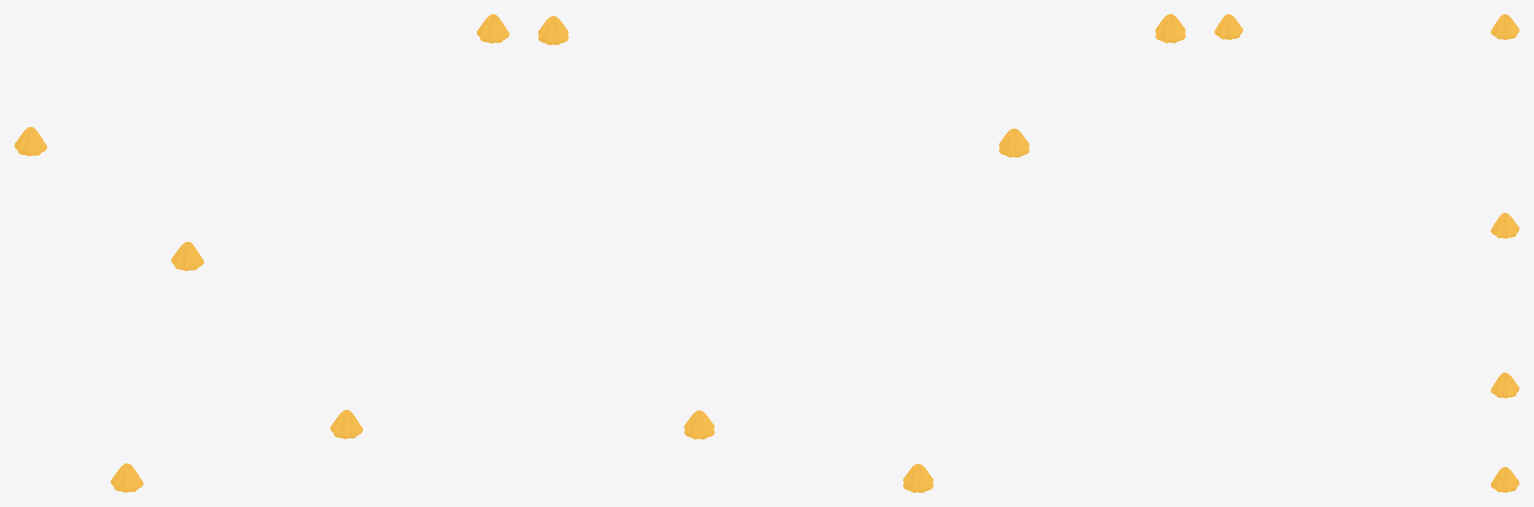
The model's file is fire.glb.
3 views of the same model, side by side, from view 1: azimuth 30°, elevation 25°; view 2: azimuth 150°, elevation 25°; view 3: azimuth 270°, elevation 25° (orthographic). The views are drawn at different scales.
Parts seen in each view (by area): view 1: FireFlame01.001, FireFlame01.003, FireFlame01.004, FireFlame01, FireFlame01.002; view 2: no part large enough to name; view 3: FireFlame01.002, FireFlame01.003, FireFlame01, FireFlame01.001, FireFlame01.004.
Part boxes in pixels (left/top/right/bottom): FireFlame01.001: left=110, top=463, right=143, bottom=492; FireFlame01.003: left=14, top=127, right=47, bottom=156; FireFlame01.004: left=171, top=242, right=203, bottom=271; FireFlame01: left=330, top=410, right=362, bottom=439; FireFlame01.002: left=476, top=14, right=509, bottom=43; FireFlame01.002: left=1490, top=213, right=1519, bottom=238; FireFlame01.003: left=1491, top=14, right=1519, bottom=39; FireFlame01: left=1490, top=467, right=1519, bottom=492; FireFlame01.001: left=1490, top=372, right=1519, bottom=398; FireFlame01.004: left=1214, top=14, right=1243, bottom=39.
Bounding box in the file's own units: 10.99 × 8.28 × 6.72.
